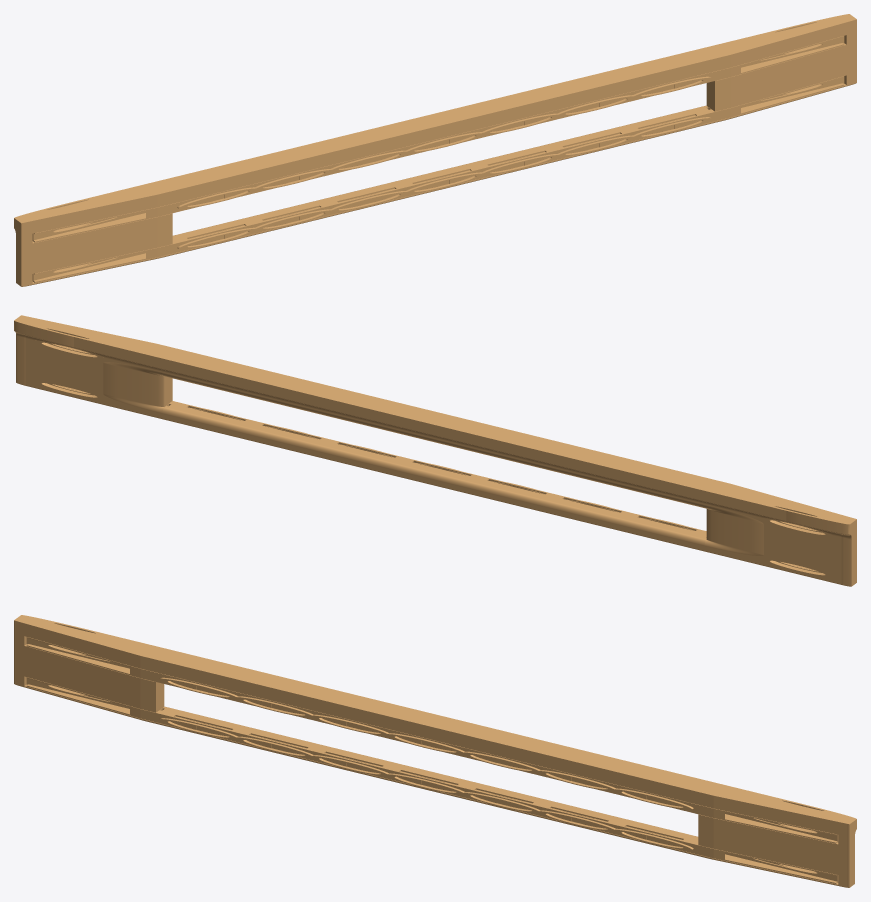
File: busbar.glb
The picture shows the model from 3 angles, top to bottom: view 1: azimuth 30°, elevation 25°; view 2: azimuth 150°, elevation 25°; view 3: azimuth 330°, elevation 25°; orthographic projection.
Visible parts, largest first — view 1: Slotted pan head screw M4x0.70 x 8; view 2: Slotted pan head screw M4x0.70 x 8; view 3: Slotted pan head screw M4x0.70 x 8.
Boxes of the visible parts, x1=… form: Slotted pan head screw M4x0.70 x 8: x1=14, y1=14, x2=856, y2=286; Slotted pan head screw M4x0.70 x 8: x1=14, y1=315, x2=856, y2=586; Slotted pan head screw M4x0.70 x 8: x1=14, y1=615, x2=856, y2=887.
Bounding box in the file's own units: 0.38 × 0.028 × 0.012.
